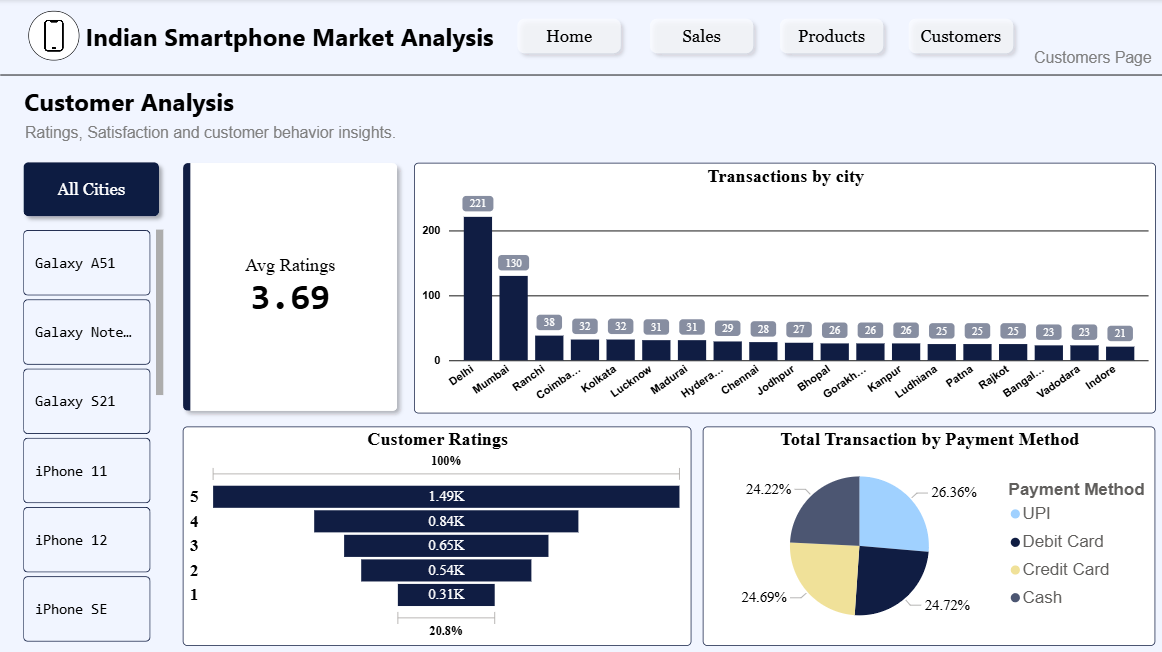

The dashboard page shown, as its layout file describes it:
{"tool":"powerbi","page":{"name":"Page 4","canvas":[1280,720],"ordinal":3},"visuals":[{"type":"shape","box":[22.1,90.8,241.7,42.9],"z":0},{"type":"shape","box":[25.8,133.7,412.3,28.2],"z":1000},{"type":"shape","box":[1.2,74.8,1278.5,16],"z":2000},{"type":"funnel","title":"Customer Ratings","fields":{"Category":["Mobile_Sales_Data.Customer Ratings"],"Y":["CountNonNull(Mobile_Sales_Data.Customer Ratings)"]},"box":[201.2,469.9,558.3,240.5],"z":3000},{"type":"pieChart","title":"Total Transaction by Payment Method","fields":{"Category":["Mobile_Sales_Data.Payment Method"],"Y":["Mobile_Sales_Data.Total_Transaction"]},"box":[773,469.9,496.9,240.5],"z":4000},{"type":"clusteredColumnChart","title":"Transactions by city","fields":{"Category":["Mobile_Sales_Data.City"],"Y":["Mobile_Sales_Data.Total_Transaction"]},"box":[455.2,180.4,814.7,274.8],"z":5000},{"type":"shape","box":[1132.5,50.3,137.4,28.2],"z":6000},{"type":"shape","box":[18.4,170.6,166.9,77.3],"z":7000},{"type":"advancedSlicerVisual","fields":{"Values":["Mobile_Sales_Data.Mobile Model"]},"box":[22.1,247.9,163.2,462.6],"z":8000},{"type":"cardVisual","fields":{"Data":["Avg(Mobile_Sales_Data.Customer Ratings)"]},"box":[185.3,163.2,269.9,306.8],"z":9000},{"type":"shape","box":[93.3,15.1,451.5,50.8],"z":10000},{"type":"actionButton","box":[560.2,12.3,131.7,56.3],"z":11000},{"type":"actionButton","box":[705.7,12.3,131.7,56.3],"z":12000},{"type":"actionButton","box":[848.4,12.3,131.7,56.3],"z":13000},{"type":"actionButton","box":[989.7,12.3,133.1,56.3],"z":14000},{"type":"image","box":[27.4,8.2,65.9,64.5],"z":15000}]}

Visuals, with their boxes in screenshot pixels (x1, y1, x2, y2), scaled from the page's 1280x720 canvas onto the 1162x652 screenshot:
shape: (left=20, top=82, right=239, bottom=121)
shape: (left=23, top=121, right=398, bottom=147)
shape: (left=1, top=68, right=1161, bottom=82)
"Customer Ratings" funnel: (left=183, top=426, right=689, bottom=643)
"Total Transaction by Payment Method" pieChart: (left=702, top=426, right=1153, bottom=643)
"Transactions by city" clusteredColumnChart: (left=413, top=163, right=1153, bottom=412)
shape: (left=1028, top=46, right=1153, bottom=71)
shape: (left=17, top=154, right=168, bottom=224)
advancedSlicerVisual - Mobile_Sales_Data.Mobile Model: (left=20, top=224, right=168, bottom=643)
cardVisual - Avg(Mobile_Sales_Data.Customer Ratings): (left=168, top=148, right=413, bottom=426)
shape: (left=85, top=14, right=495, bottom=60)
actionButton: (left=509, top=11, right=628, bottom=62)
actionButton: (left=641, top=11, right=760, bottom=62)
actionButton: (left=770, top=11, right=890, bottom=62)
actionButton: (left=898, top=11, right=1019, bottom=62)
image: (left=25, top=7, right=85, bottom=66)
